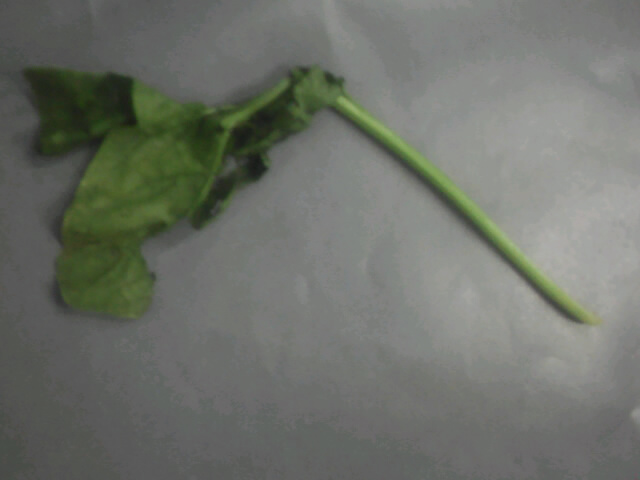yellow: (16, 54, 369, 340)
